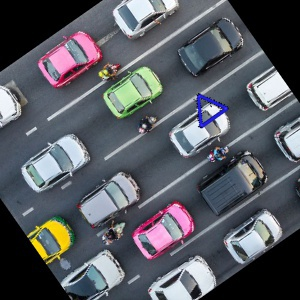triangle: (193, 91, 231, 131)
